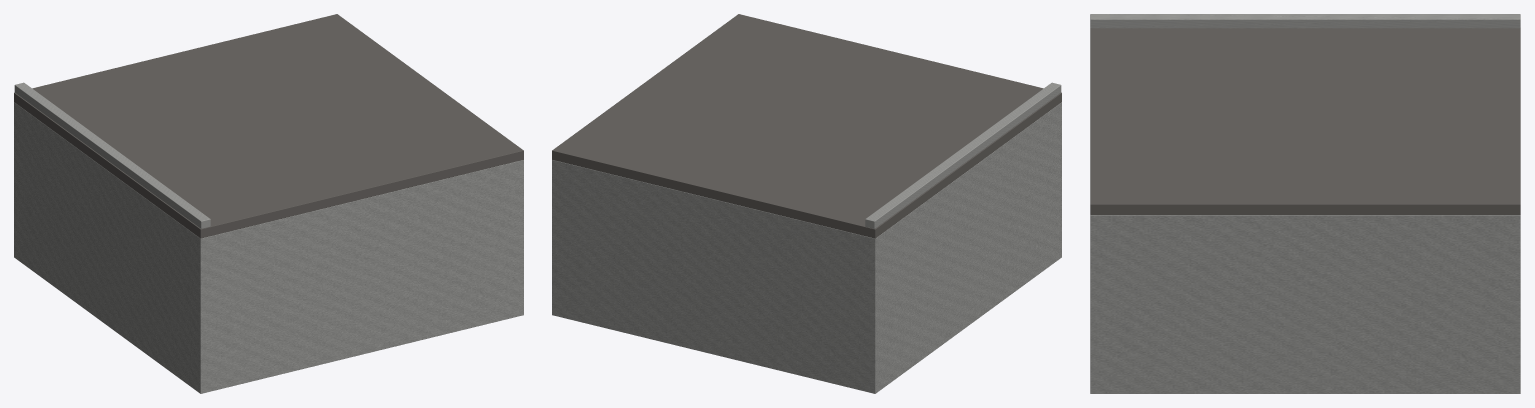
The model's file is paranormal-investigation-house-cutaway-road-plinth-7e07036f__26712.glb.
3 renders of one model, left to right at view 1: azimuth 30°, elevation 25°; view 2: azimuth 150°, elevation 25°; view 3: azimuth 270°, elevation 25°, orthographic. The views are drawn at different scales.
Visible parts, largest first — view 1: cutaway-road-plinth; view 2: cutaway-road-plinth; view 3: cutaway-road-plinth.
Part boxes in pixels (x1=…): cutaway-road-plinth: x1=14, y1=14, x2=523, y2=393; cutaway-road-plinth: x1=552, y1=14, x2=1061, y2=393; cutaway-road-plinth: x1=1090, y1=14, x2=1520, y2=393.
Bounding box in the file's own units: 6 × 3.06 × 6.
Materials: 2 (1 with a texture image).
